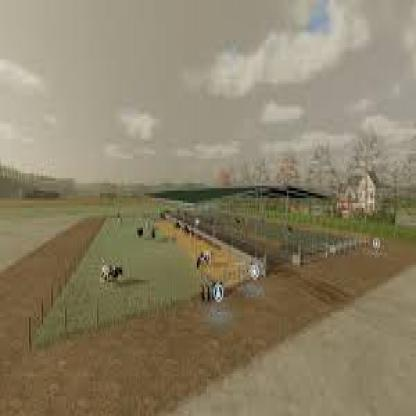cow: (102, 262, 124, 288), (195, 250, 211, 272)
